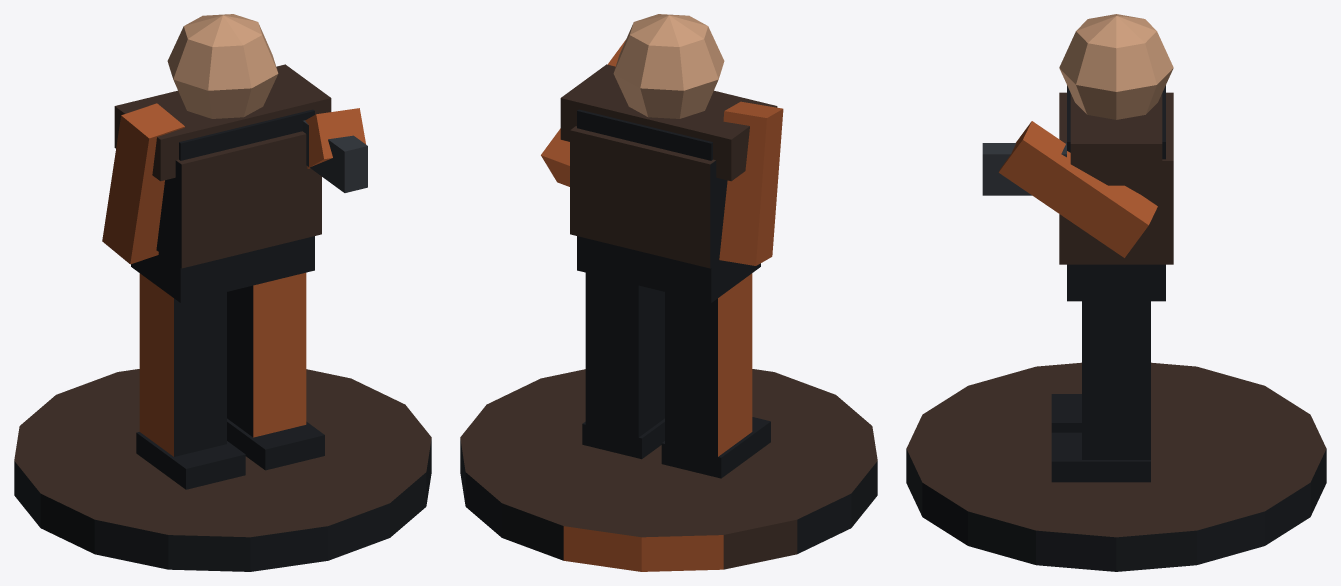
File: rioter_looter.glb
3 views of the same model, side by side, from view 1: azimuth 30°, elevation 25°; view 2: azimuth 150°, elevation 25°; view 3: azimuth 270°, elevation 25° (orthographic).
Visible parts, largest first — view 1: rioter_looter; view 2: rioter_looter; view 3: rioter_looter.
Part boxes in pixels (x1=…): rioter_looter: x1=14, y1=14, x2=431, y2=571; rioter_looter: x1=460, y1=14, x2=877, y2=571; rioter_looter: x1=906, y1=14, x2=1326, y2=571.
Size of the model in its own units: 1.1 by 1.35 by 1.1.
